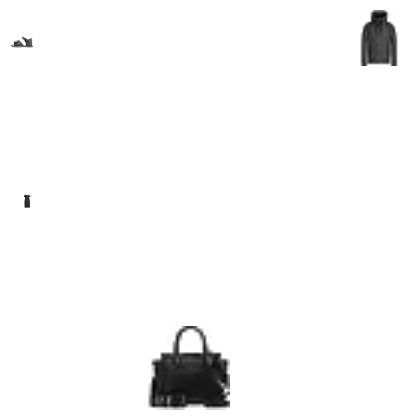Bag: (146, 326, 230, 410)
Coat: (351, 10, 407, 66)
Dress: (20, 194, 34, 208)
Sandal: (11, 31, 33, 53)
